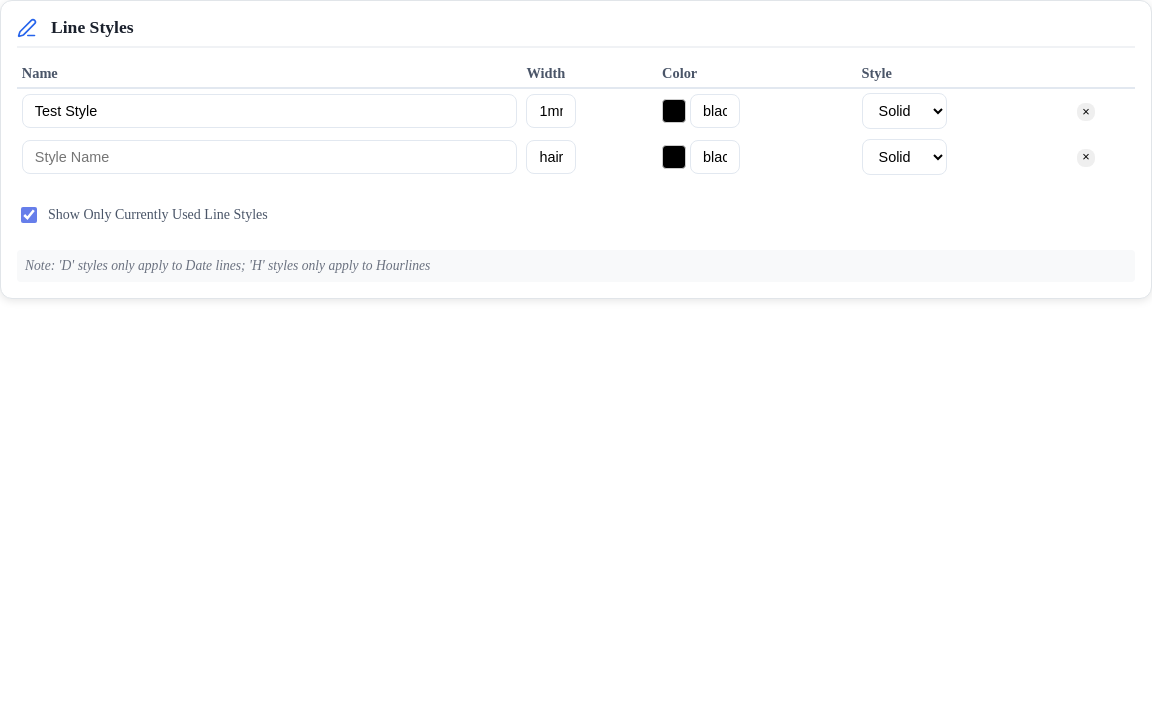
it: LineSettings Calculated Style Popup › should show popup when calculated is selected from dropdown
# Select "calculated" from dropdown
Select "Calculated" in the 2nd dropdown: (904, 157) [862,139,946,175]
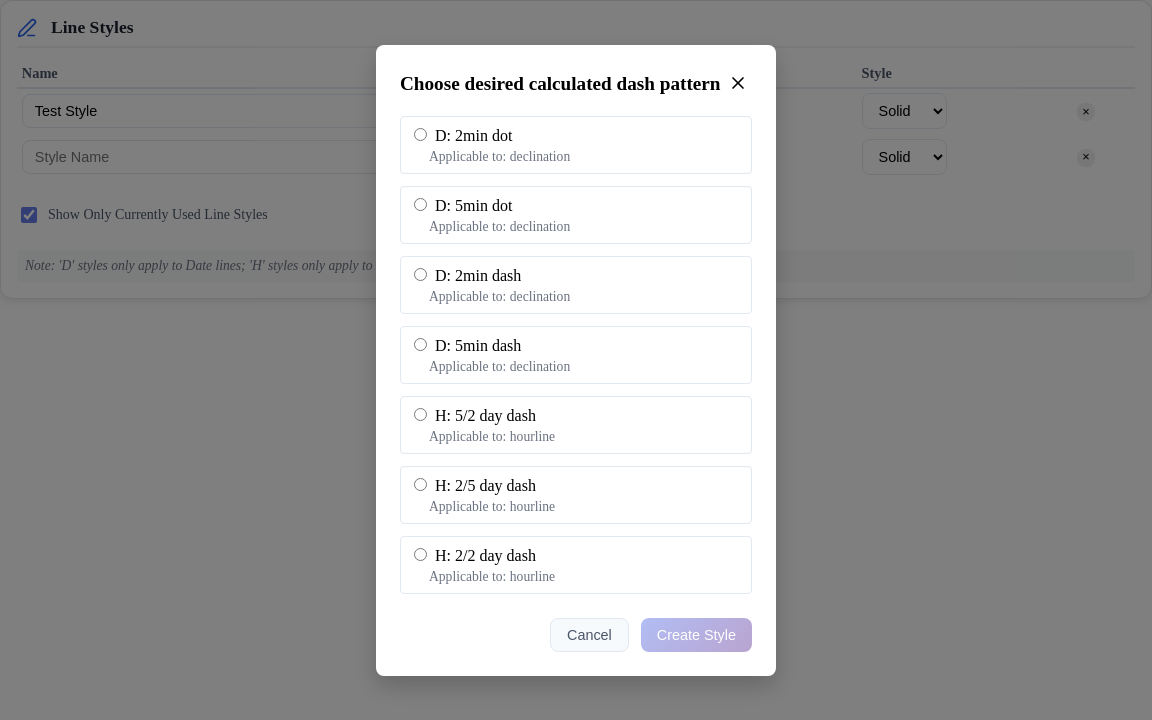
Now the heading "Choose desired calculated dash pattern" is shown, box [400,73,720,95]
